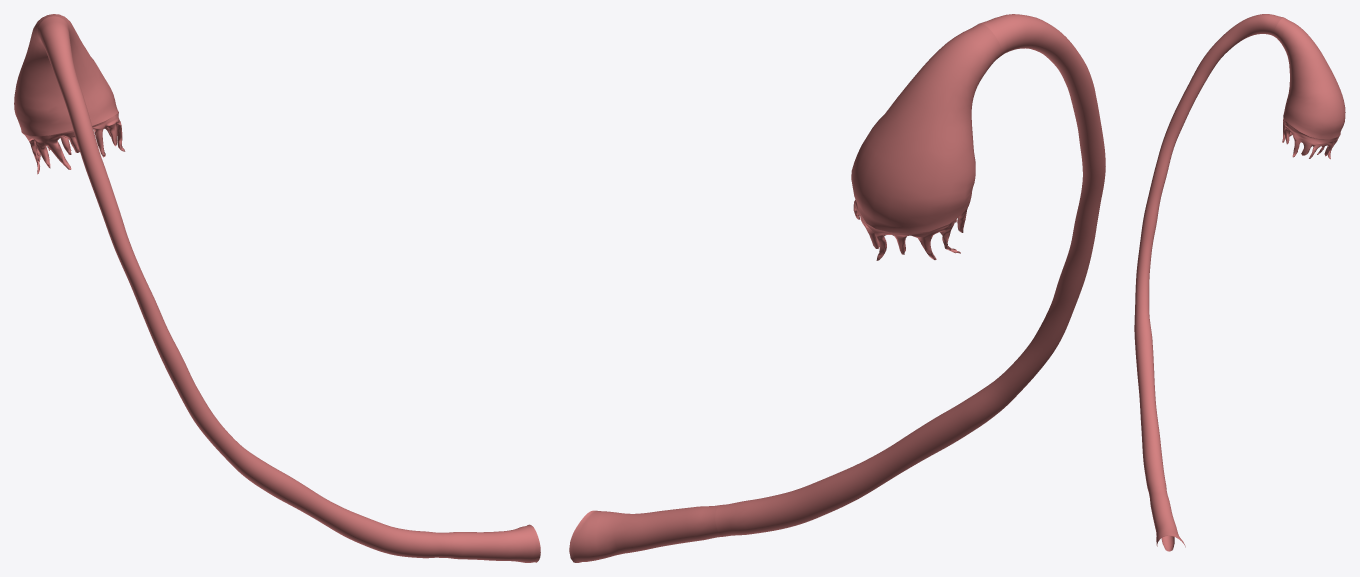
File: vh_f_fallopian_tube_r-80.glb
The picture shows the model from 3 angles, left to right: view 1: azimuth 30°, elevation 25°; view 2: azimuth 150°, elevation 25°; view 3: azimuth 270°, elevation 25°; orthographic projection. The views are drawn at different scales.
Visible parts, largest first — view 1: VH_F_ampulla_of_uterine_tube_R, VH_F_uterine_tube_infundibulum_R, VH_F_isthmus_of_fallopian_tube_R, VH_F_fibria_of_uterine_tube_R; view 2: VH_F_ampulla_of_uterine_tube_R, VH_F_uterine_tube_infundibulum_R, VH_F_isthmus_of_fallopian_tube_R, VH_F_fibria_of_uterine_tube_R; view 3: VH_F_ampulla_of_uterine_tube_R, VH_F_uterine_tube_infundibulum_R, VH_F_isthmus_of_fallopian_tube_R, VH_F_fibria_of_uterine_tube_R.
Part boxes in pixels (x1,y1,x2,y2): VH_F_ampulla_of_uterine_tube_R: (37, 16, 450, 558); VH_F_uterine_tube_infundibulum_R: (14, 14, 118, 136); VH_F_isthmus_of_fallopian_tube_R: (442, 524, 540, 562); VH_F_fibria_of_uterine_tube_R: (22, 112, 125, 174); VH_F_ampulla_of_uterine_tube_R: (715, 14, 1105, 536); VH_F_uterine_tube_infundibulum_R: (851, 23, 1001, 233); VH_F_isthmus_of_fallopian_tube_R: (569, 505, 722, 562); VH_F_fibria_of_uterine_tube_R: (853, 200, 967, 260); VH_F_ampulla_of_uterine_tube_R: (1134, 14, 1283, 493); VH_F_uterine_tube_infundibulum_R: (1273, 17, 1345, 139); VH_F_isthmus_of_fallopian_tube_R: (1149, 488, 1185, 551); VH_F_fibria_of_uterine_tube_R: (1282, 117, 1339, 159).
Size of the model in its own units: 0.0344 by 0.0446 by 0.0209.
